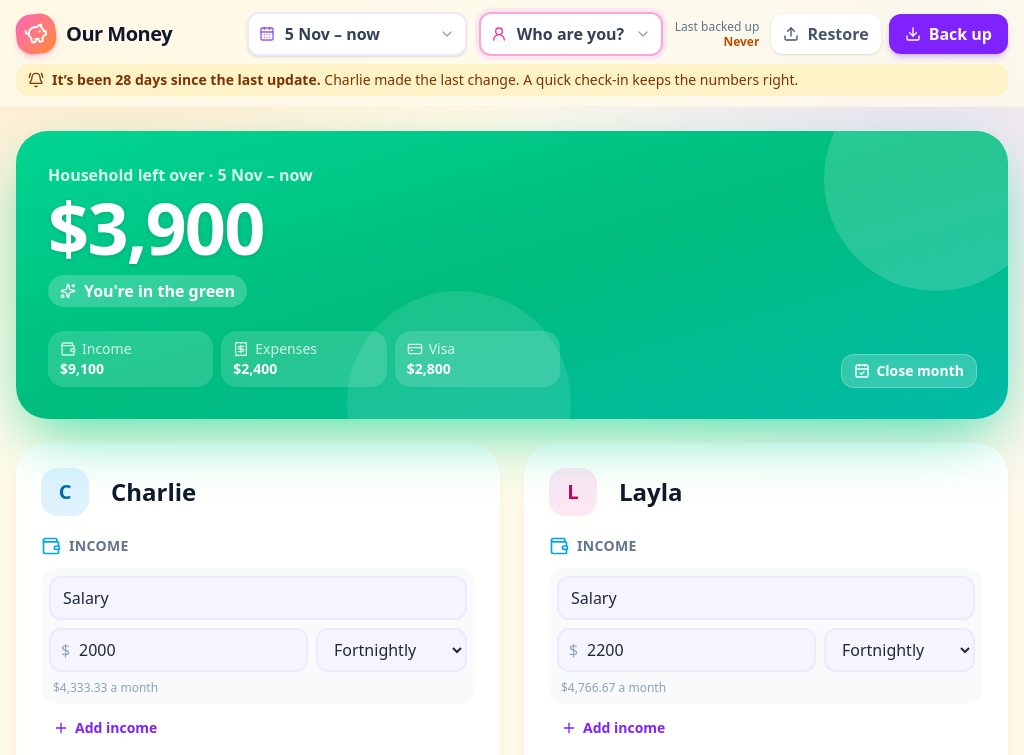
Test case: Visa, notes and closing the month › on 15 Dec 2026 › closes the period on today’s date after confirming, and starts the next one today
What coordinates should you click on to do the following:
click the button "Close month"
I would click on:
 (909, 371)
Its box is 842,355 -> 976,387.
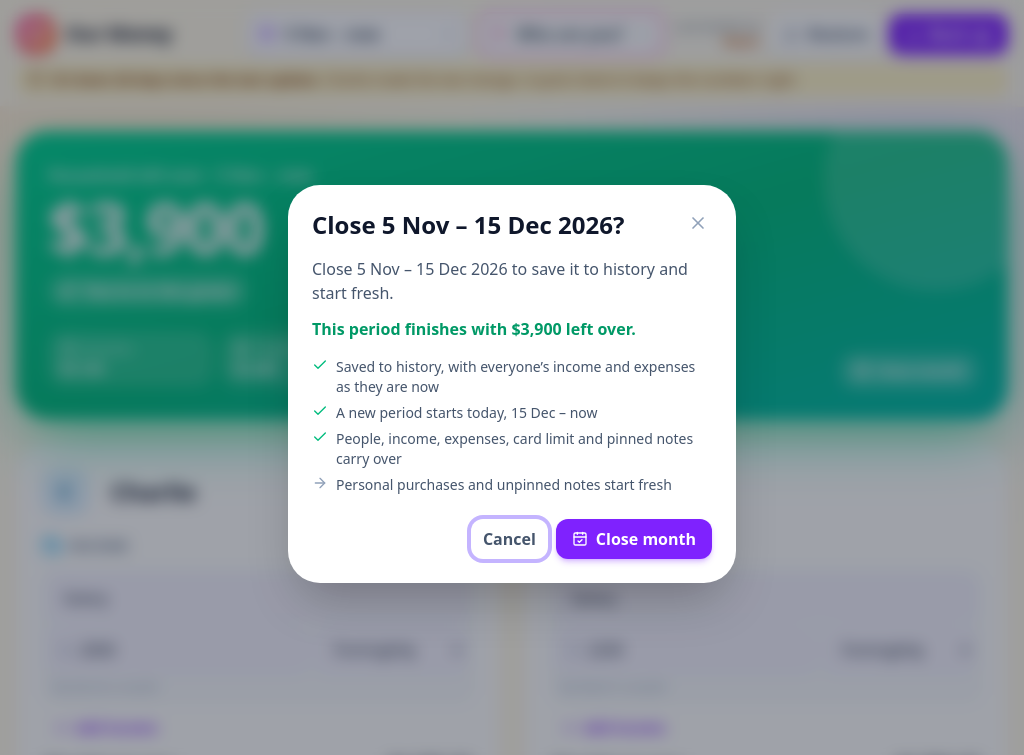
Check: the text "Close 5 Nov – 15 Dec 2026 to save it to history and start fresh." is shown, box 312,257 -> 712,305
Check: the text "This period finishes with $3,900 left over." is shown, box 312,318 -> 636,340
Check: the list item "A new period starts today, 15 Dec – now" is shown, box 312,403 -> 598,422
What coordinates should you click on to do the following:
click the button "Close month" below "A new period starts today,"
I would click on:
 (634, 539)
Its box is 556,519 -> 712,559.
(page scrolled)
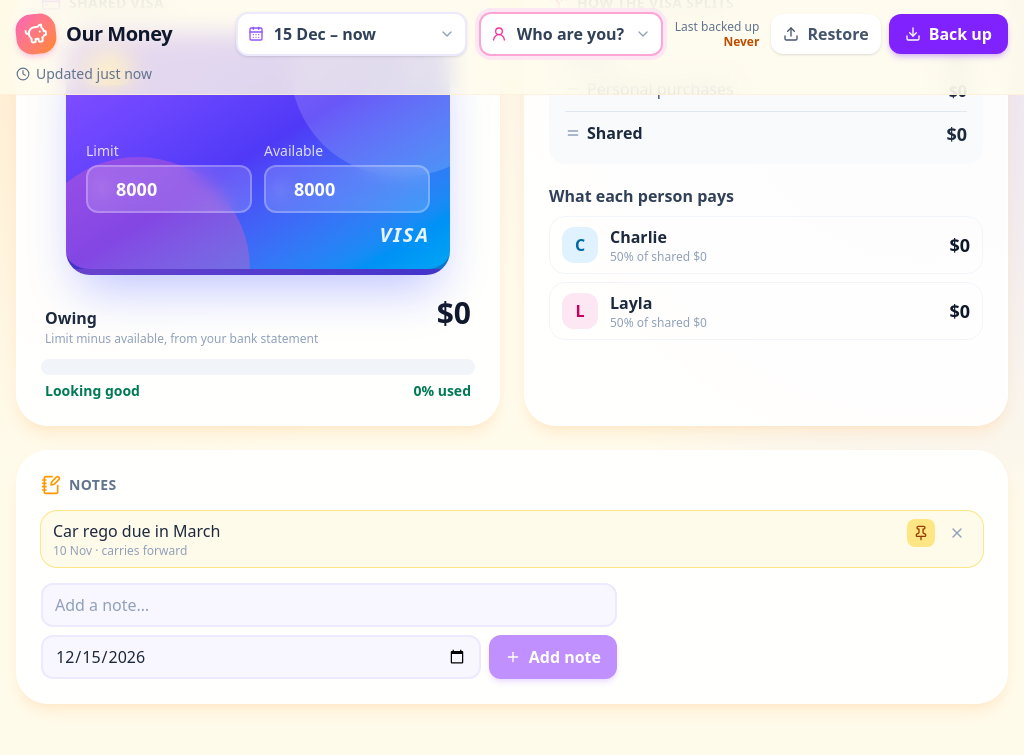
Check: the text "Car rego due in March" is shown, box 53,520 -> 220,542
Check: the dialog is gone
